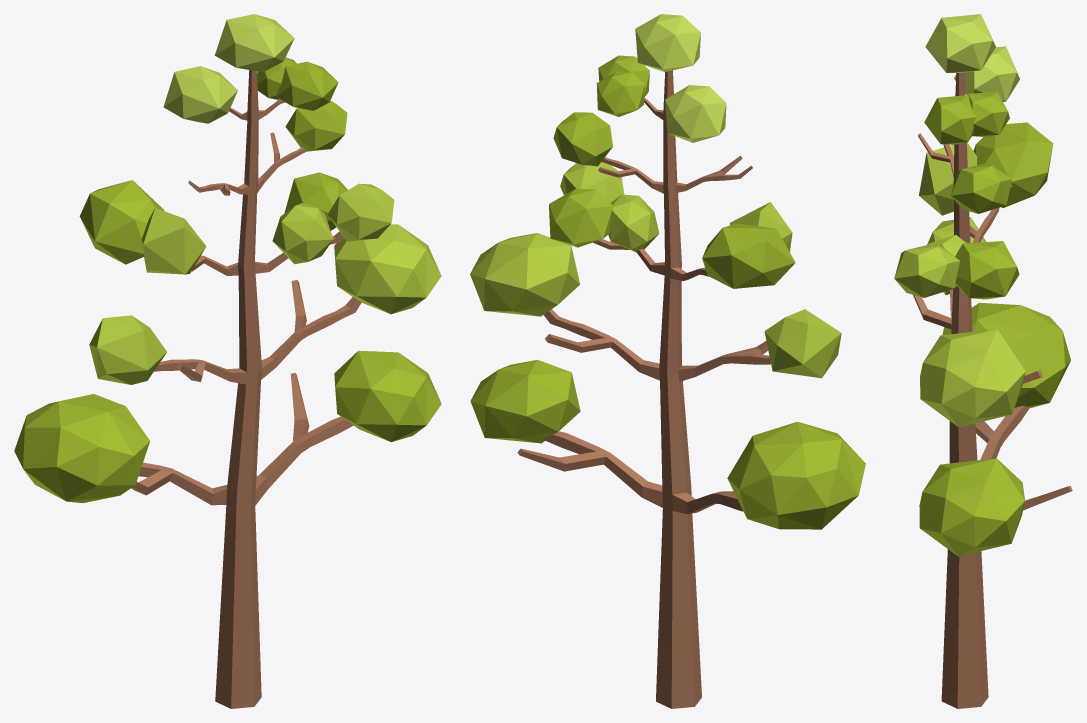
Rendered from tree_5.fbx.
3 renders of one model, left to right at view 1: azimuth 30°, elevation 25°; view 2: azimuth 150°, elevation 25°; view 3: azimuth 270°, elevation 25°, orthographic.
Parts seen in each view (by area): view 1: tree_5; view 2: tree_5; view 3: tree_5.
Part boxes in pixels (x1,y1,x2,y2): tree_5: [14, 14, 441, 708]; tree_5: [470, 14, 865, 708]; tree_5: [894, 14, 1072, 708].
Size of the model in its own units: 495 by 815 by 192.
